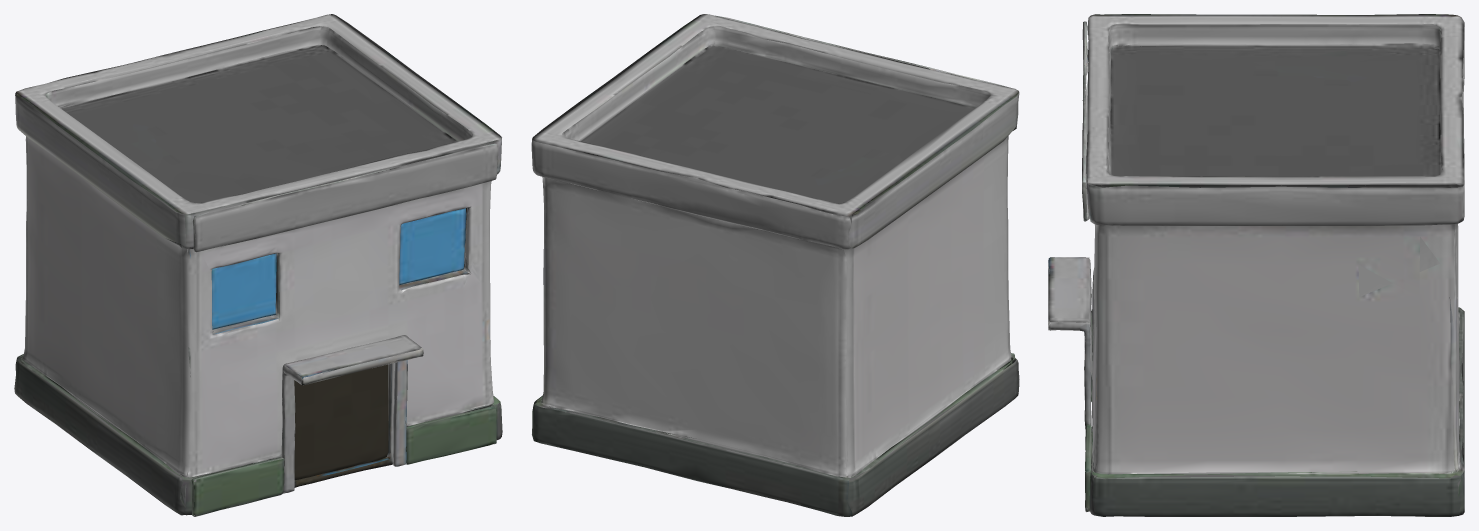
Rendered from grenade-small-rear-low.glb.
The picture shows the model from 3 angles, left to right: view 1: azimuth 30°, elevation 25°; view 2: azimuth 150°, elevation 25°; view 3: azimuth 270°, elevation 25°; orthographic projection. The views are drawn at different scales.
Size of the model in its own units: 0.9879 by 0.8814 by 1.
Materials: 1 (1 with a texture image).
